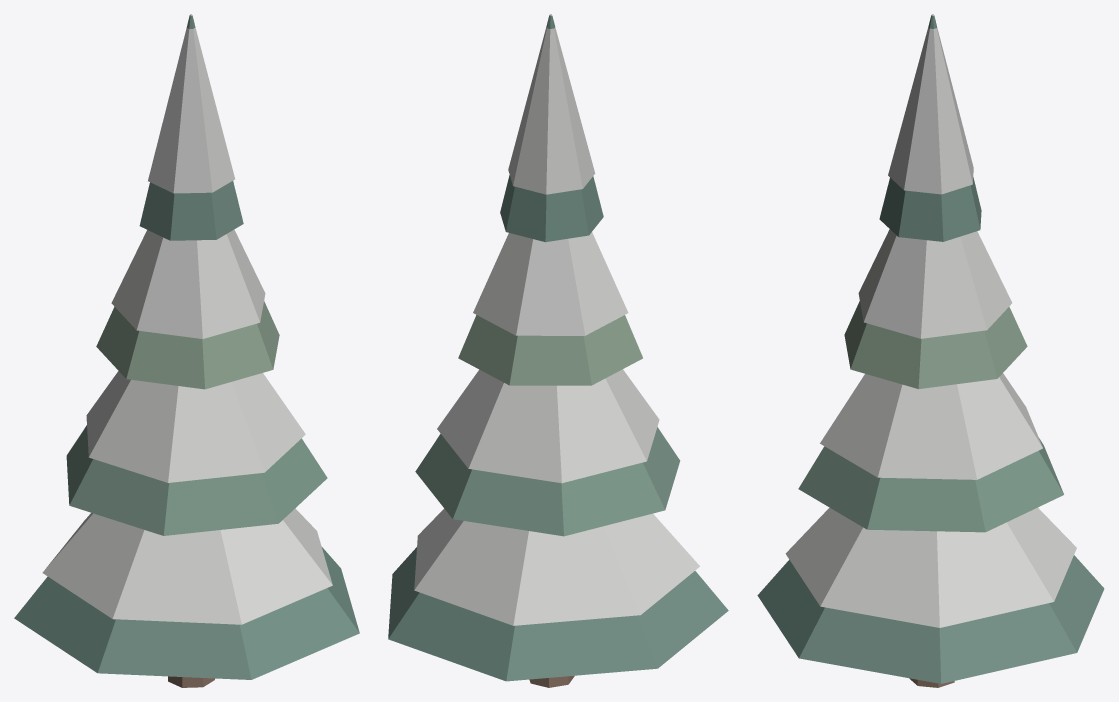
3 renders of one model, left to right at view 1: azimuth 30°, elevation 25°; view 2: azimuth 150°, elevation 25°; view 3: azimuth 270°, elevation 25°, orthographic.
Visible parts, largest first — view 1: T05; view 2: T05; view 3: T05.
Part boxes in pixels (left/top/right/bottom): T05: left=14, top=14, right=359, bottom=687; T05: left=388, top=14, right=728, bottom=687; T05: left=757, top=14, right=1104, bottom=687.
Bounding box in the file's own units: 1.69 × 3.62 × 1.72.
